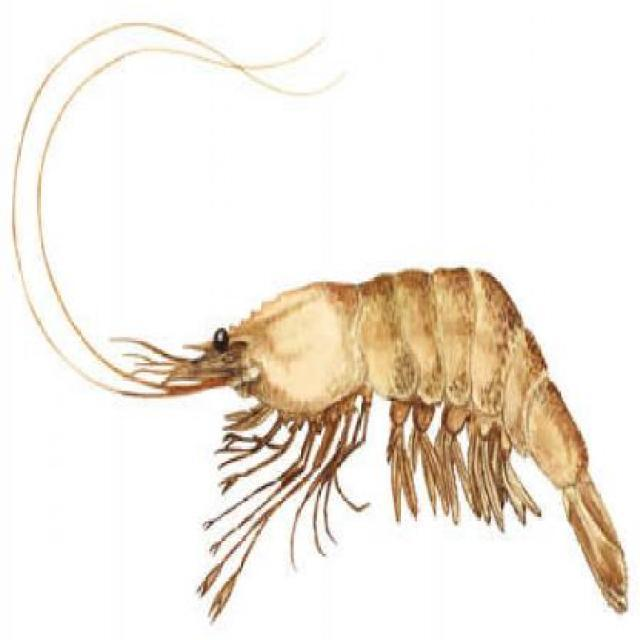shrimp: (180, 260, 639, 628)
